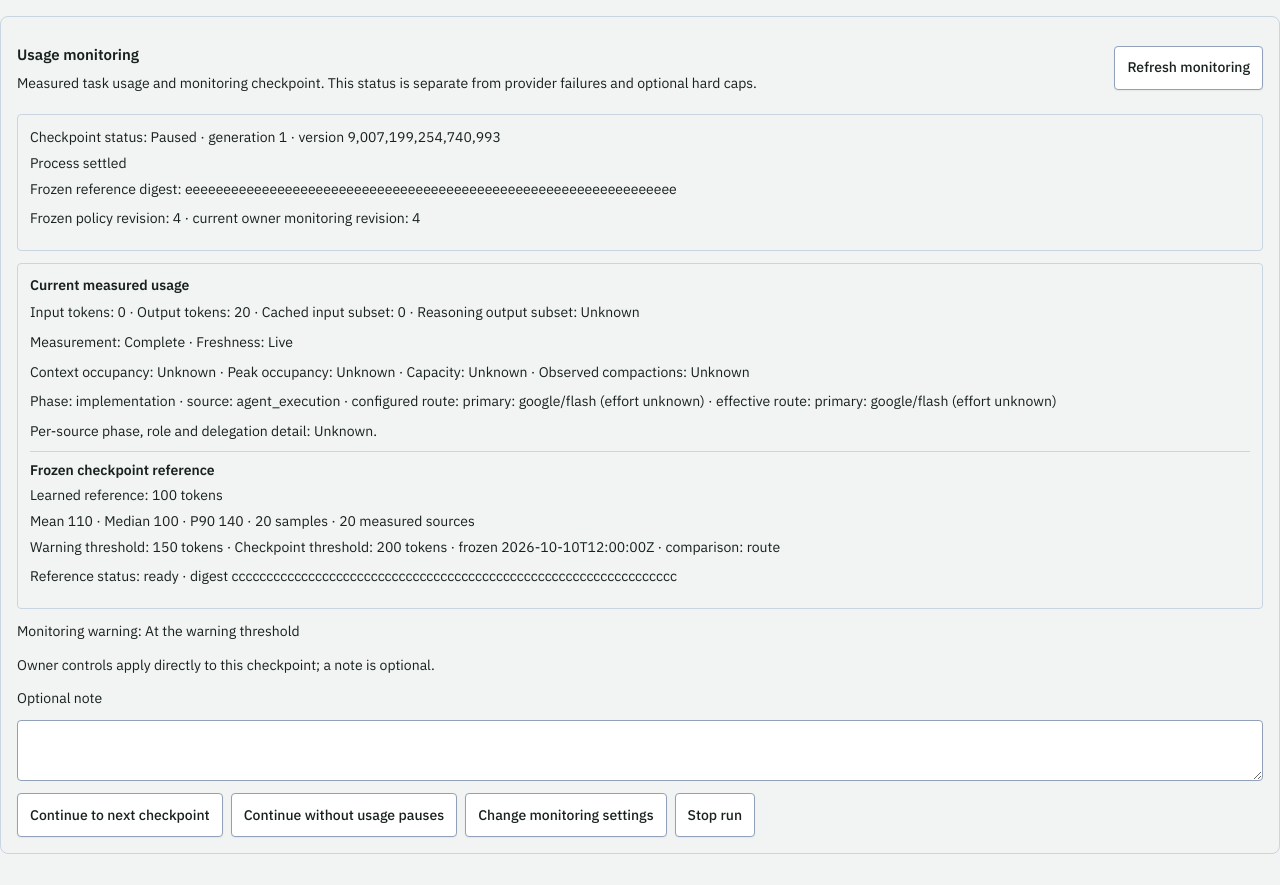
it: continues from an exact high checkpoint version and accepts its numeric durable receipt
The image size is (1280, 885).
Click the button "Continue without usage pauses" at (344,815), box [231,793,457,837]
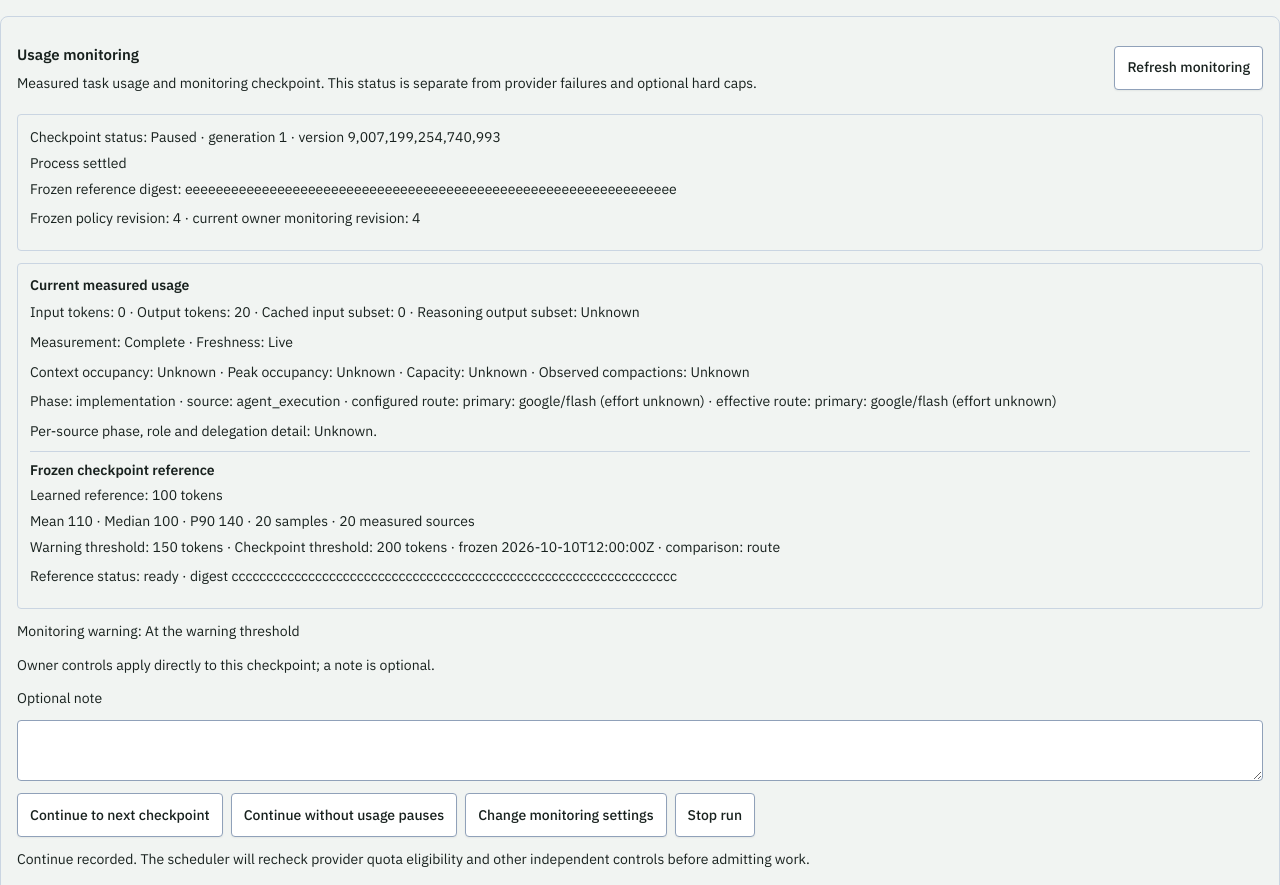
Expected: the text "Continue recorded" is shown, [17,850,810,868]
